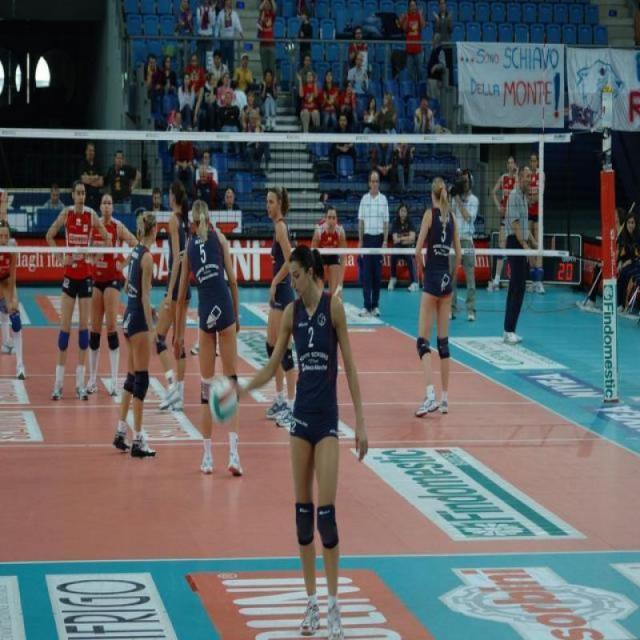volleyball: (207, 374, 239, 427)
